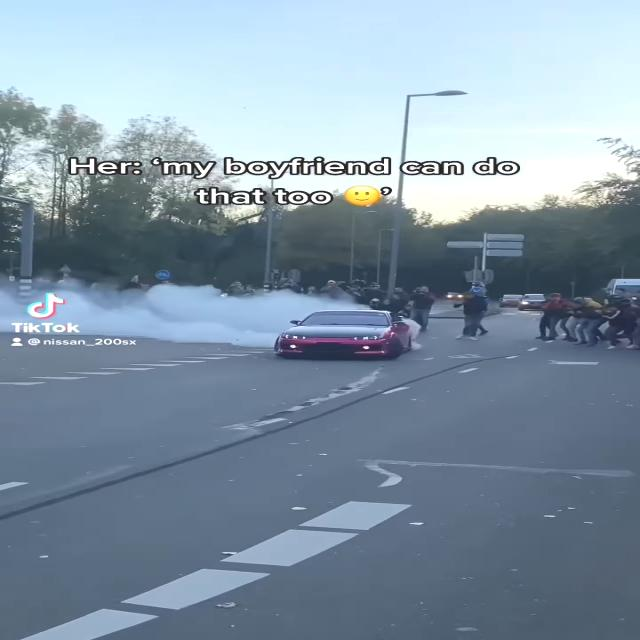car: (277, 308, 412, 364)
